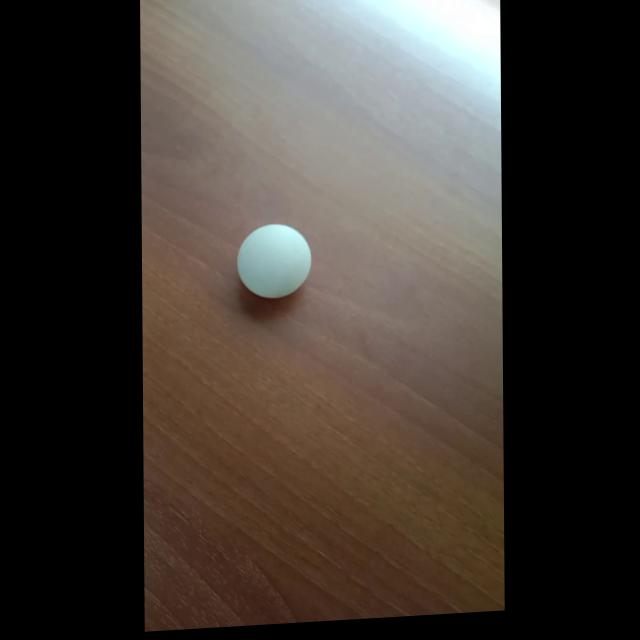white ball: (236, 221, 312, 301)
